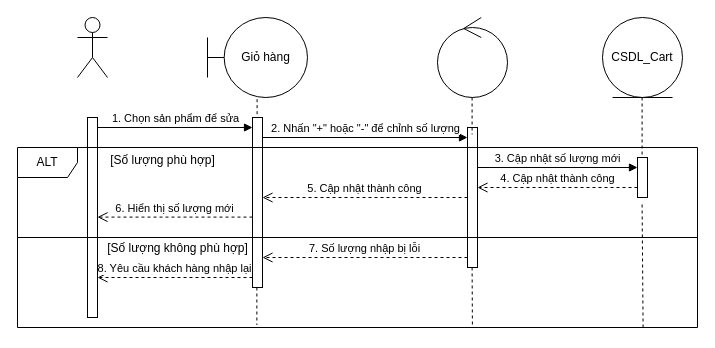
The diagram is 715 pixels wide and 348 high, and some of its shapes have lost their labels. Each missing label, with the centre of its shape:
Control_cart: [472,57]
Khách hàng: [92,47]
